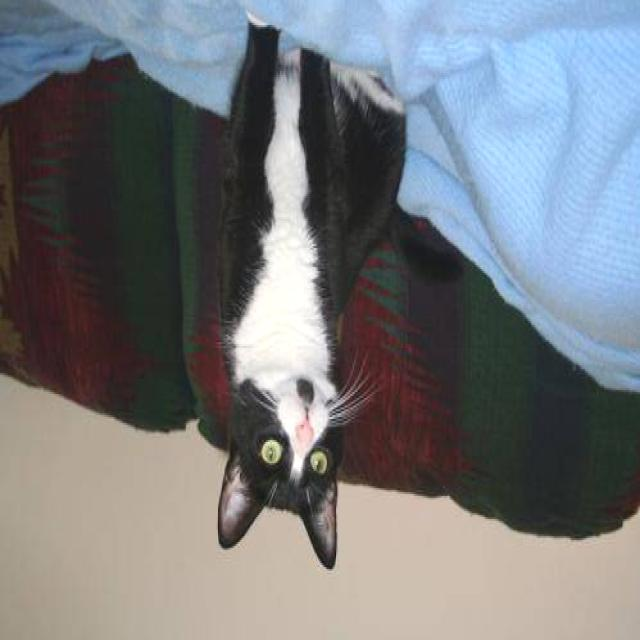Kucing: (66, 25, 519, 563)
